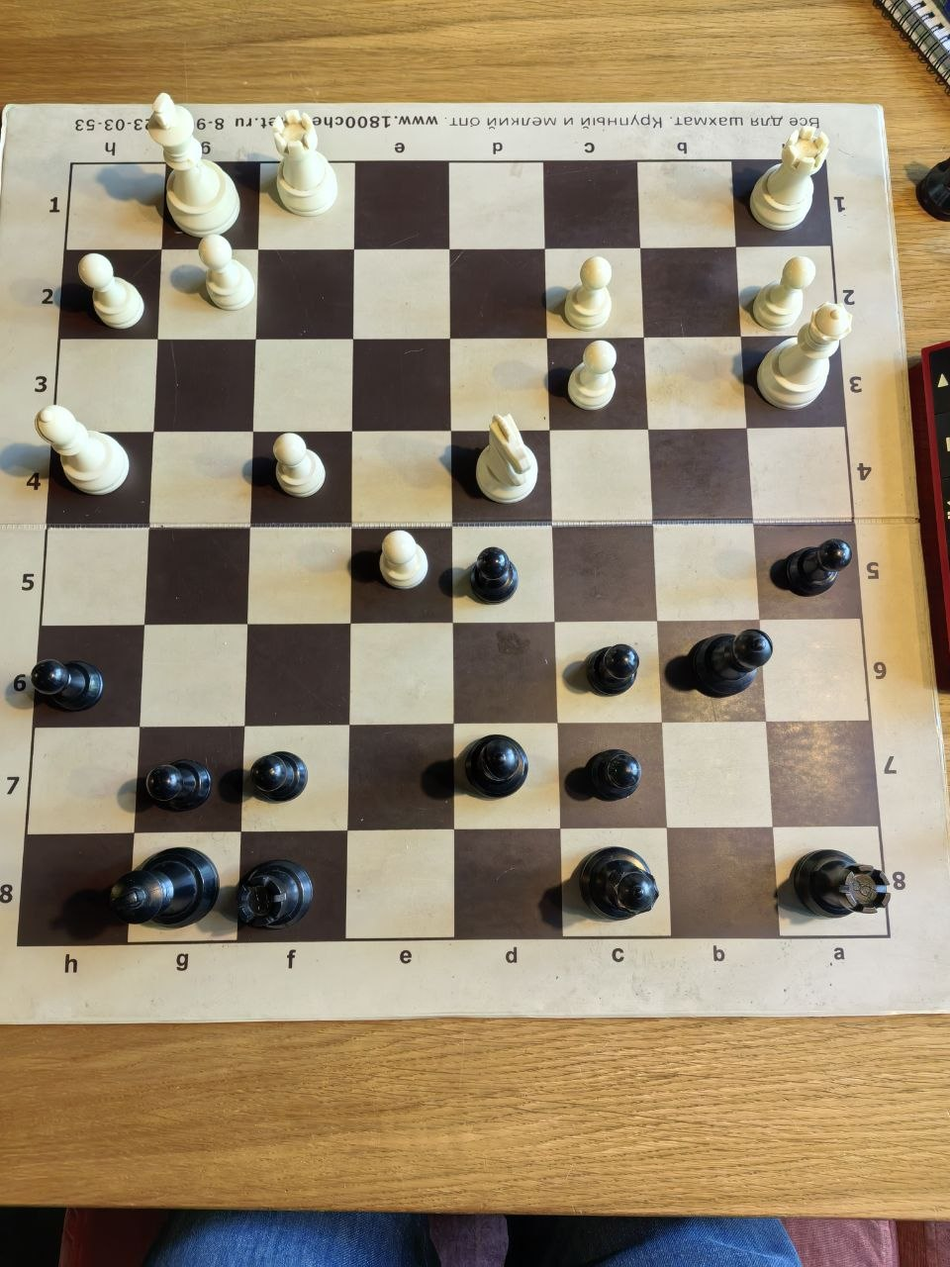black-bishop: (712, 1109, 831, 1267)
black-king: (0, 792, 119, 950)
black-knight: (0, 1109, 119, 1267), (594, 1109, 712, 1267)
black-pawn: (831, 634, 950, 792)
black-queen: (356, 634, 475, 792)
black-rook: (475, 475, 594, 634), (0, 950, 119, 1109), (712, 950, 831, 1109), (831, 950, 950, 1109), (238, 950, 356, 1109), (594, 634, 712, 792), (238, 792, 356, 950)
white-bishop: (712, 0, 831, 158)
white-king: (238, 0, 356, 158)
white-knight: (0, 0, 119, 158), (594, 0, 712, 158)
white-pawn: (356, 158, 475, 317), (119, 317, 238, 475)
white-rook: (712, 158, 831, 317), (0, 475, 119, 634), (356, 475, 475, 634), (831, 317, 950, 475), (238, 158, 356, 317), (594, 158, 712, 317), (238, 317, 356, 475)
